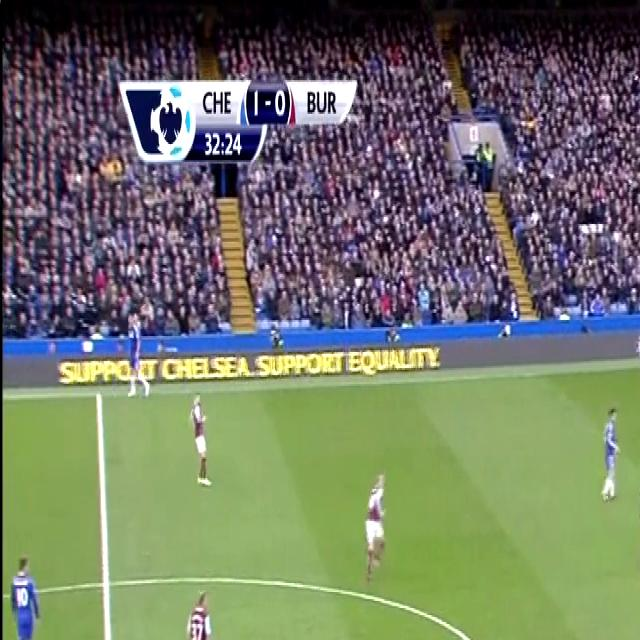soccer-player: (359, 462, 393, 584), (5, 544, 45, 640), (594, 398, 625, 512), (185, 389, 213, 495), (176, 576, 219, 640), (123, 316, 148, 397), (630, 453, 640, 583)
